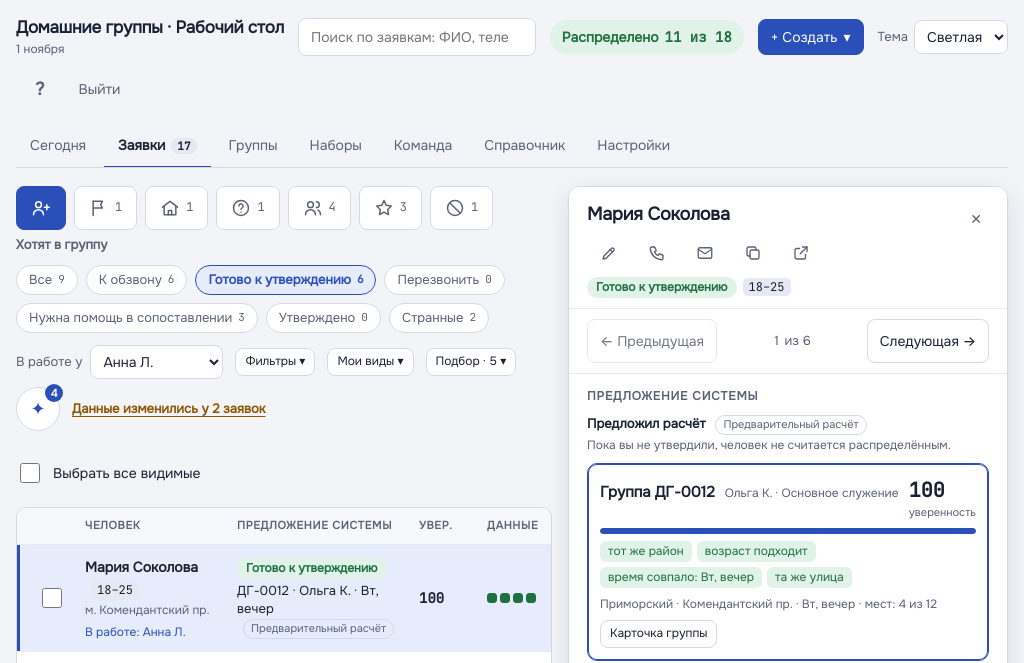
Test case: «Заявки»: вкладки по виду обращения › вкладка пишет view в адрес и сбрасывает открытую карточку и чип прежнего списка; «В работе у» остаётся
Step 1. Click the button named "Уже состоят" → (319,208), box [288, 186, 351, 230]
(page scrolled)
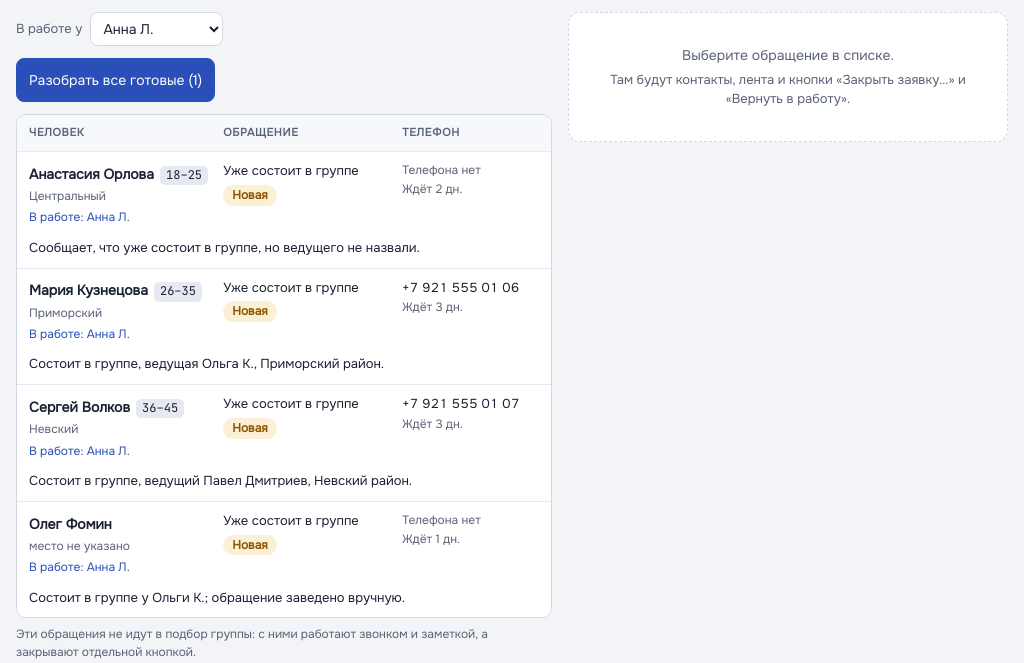
Expected: the list named "Список обращений" is shown, [17, 151, 551, 617]
